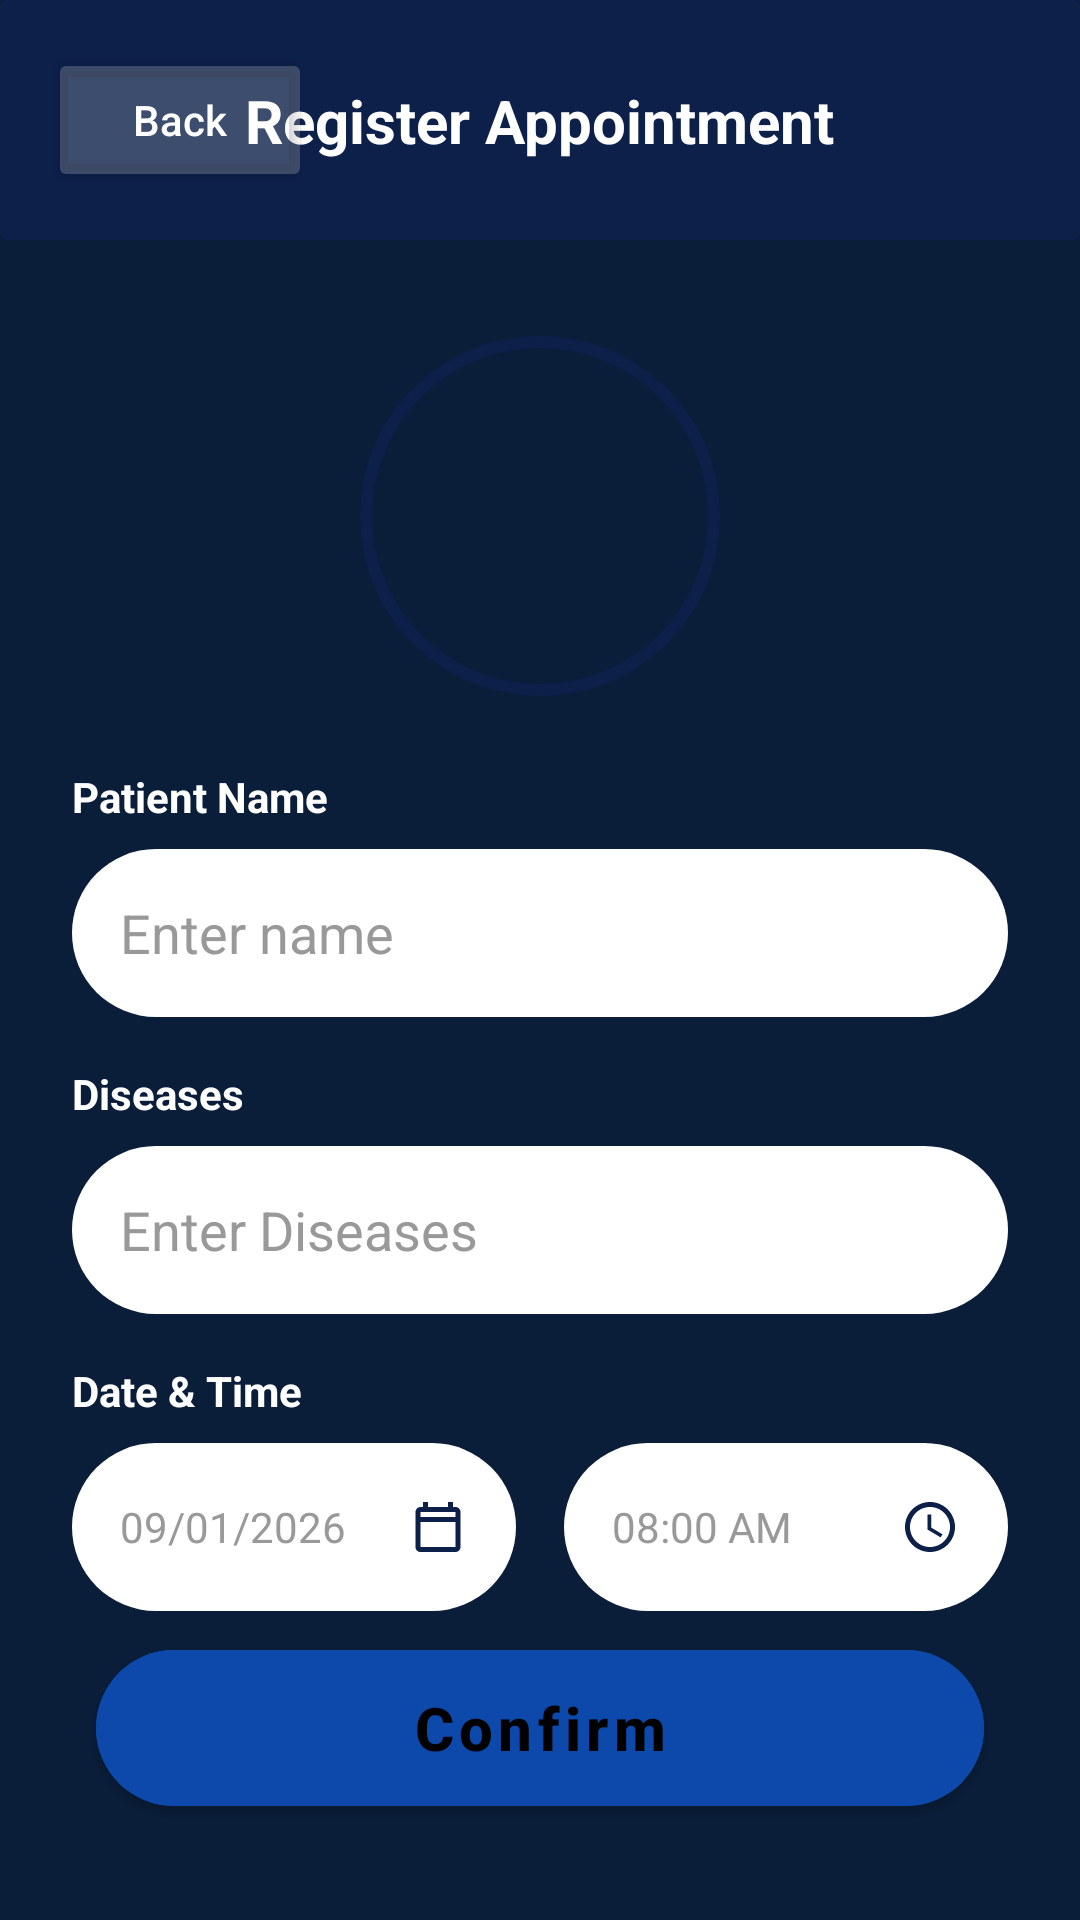

Named icons in this screenshot (1080×1920) and their bounding boxes, (x1=x1, y1=y1, x2=x2, y2=y2):
calendar: (x1=415, y1=1502, x2=461, y2=1552)
time: (x1=905, y1=1502, x2=955, y2=1552)
